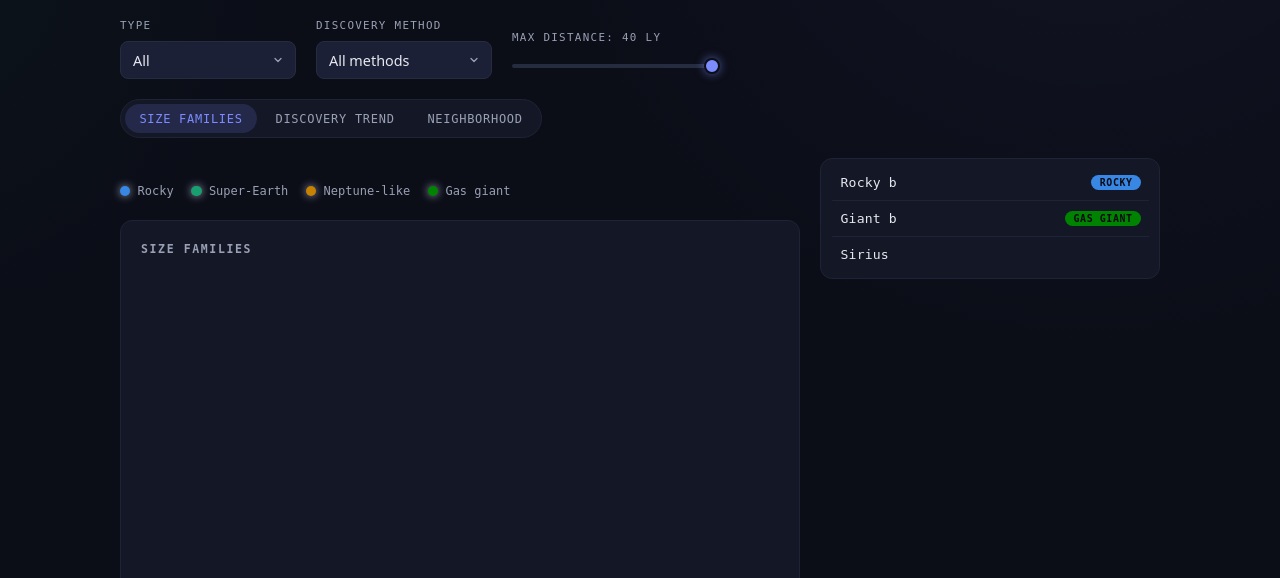
Test: App › opens the detail drawer when a body is selected
Click the button "Giant b Gas giant" at (869, 219), box [831,201,1149,237]
(page scrolled)
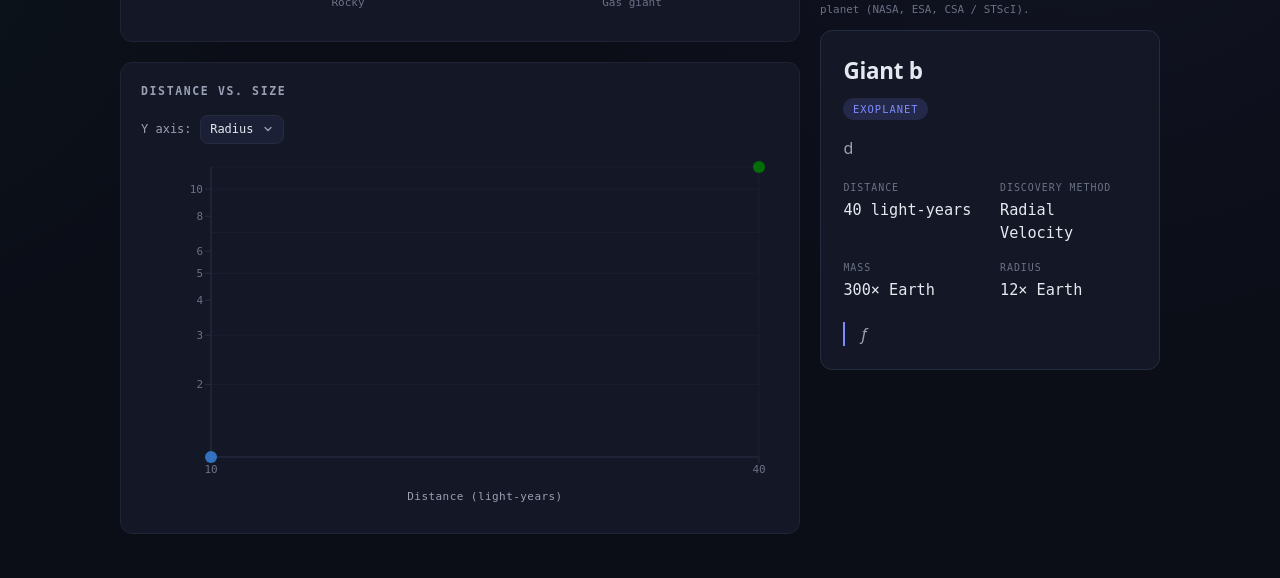
Result: the heading "Giant b" is shown at [843,55,923,86]
